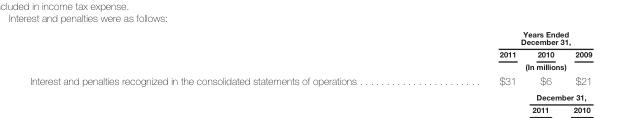table: (29, 29, 591, 87)
table column: (29, 29, 427, 87), (427, 29, 526, 87), (526, 29, 564, 87), (564, 29, 591, 87)
table column header: (29, 29, 591, 73)
table row: (29, 29, 591, 47), (29, 73, 591, 87), (29, 47, 591, 60), (29, 60, 591, 73)
table spanning cell: (427, 29, 591, 47), (427, 60, 591, 73)
